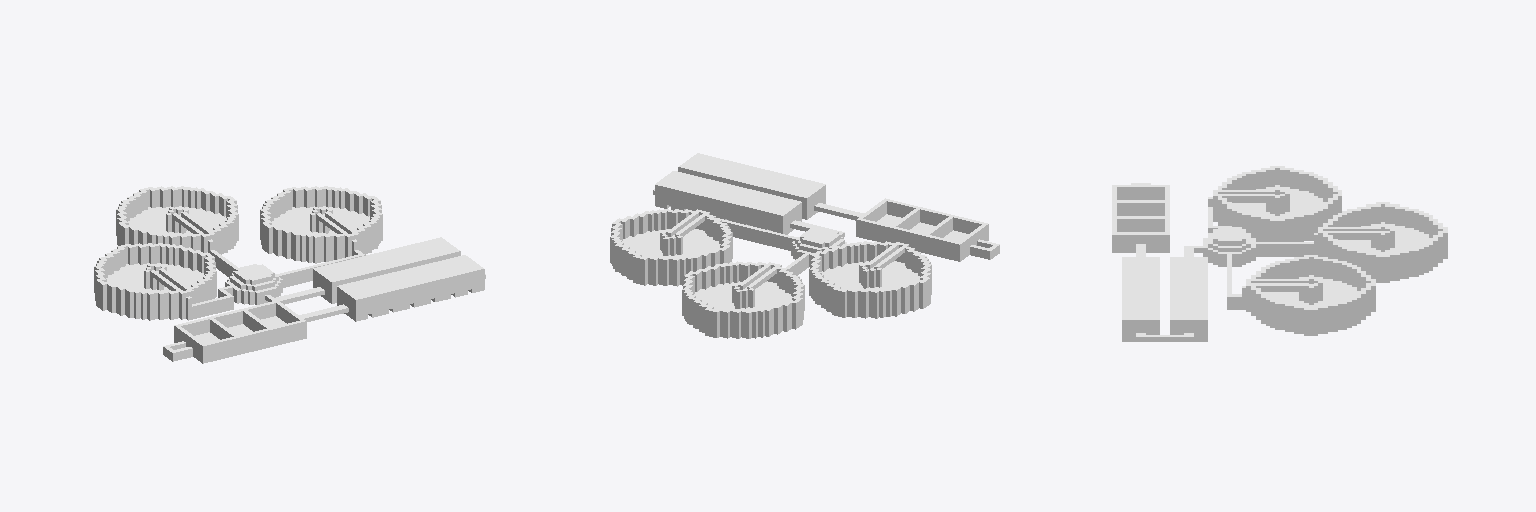
The model's file is sewagePlant1.obj.
3 renders of one model, left to right at view 1: azimuth 30°, elevation 25°; view 2: azimuth 150°, elevation 25°; view 3: azimuth 270°, elevation 25°, orthographic.
Visible parts, largest first — view 1: object 1; view 2: object 1; view 3: object 1.
Boxes of the visible parts, <box> form: object 1: <box>94,186,485,363</box>; object 1: <box>610,153,999,338</box>; object 1: <box>1112,166,1447,341</box>.
Size of the model in its own units: 7.6 by 0.6 by 7.